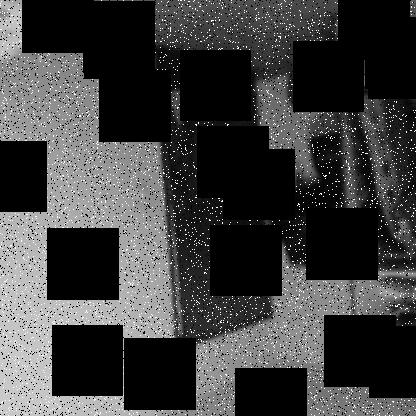Porte: (150, 45, 277, 351)
